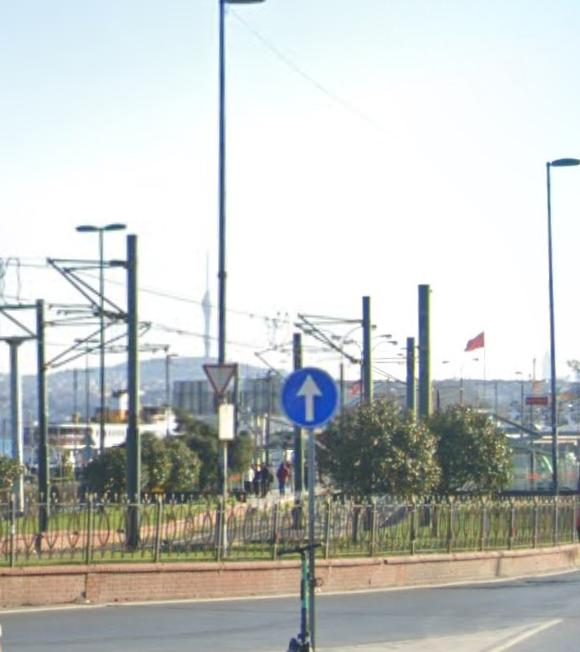forward: (284, 370, 336, 425)
